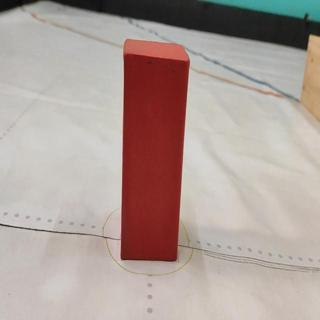redbox: (122, 37, 189, 261)
